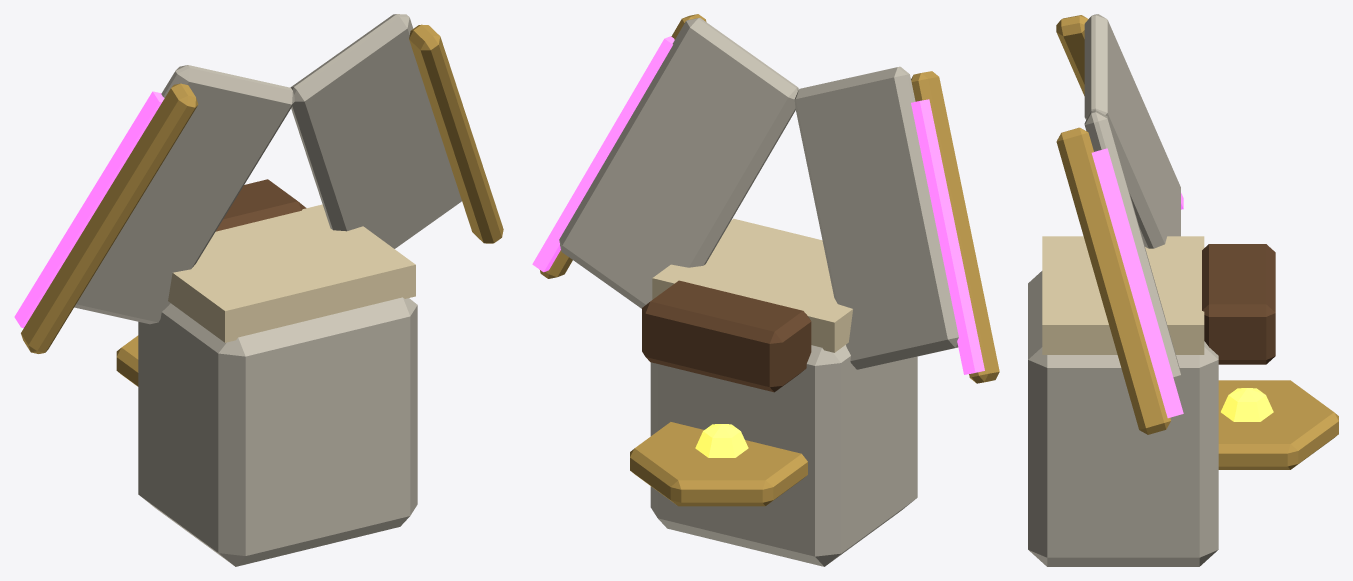
Rendered from back_wing.glb.
The picture shows the model from 3 angles, left to right: view 1: azimuth 30°, elevation 25°; view 2: azimuth 150°, elevation 25°; view 3: azimuth 270°, elevation 25°; orthographic projection. The views are drawn at different scales.
Visible parts, largest first — view 1: back_wing; view 2: back_wing; view 3: back_wing.
Part boxes in pixels (x1,y1,x2,y2): back_wing: [14, 14, 503, 566]; back_wing: [532, 14, 999, 566]; back_wing: [1028, 14, 1338, 566].
Bounding box in the file's own units: 1.1 × 1.08 × 0.6525.
Materials: 1 (1 with a texture image).
